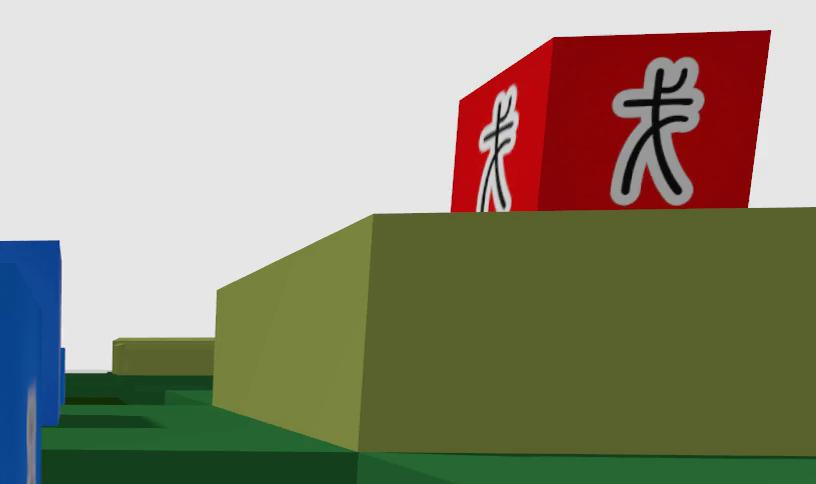KFS_FAKE: (450, 32, 770, 211), (612, 57, 704, 205), (476, 86, 518, 211)
KFS_REAL: (0, 242, 65, 425), (0, 266, 43, 484)
